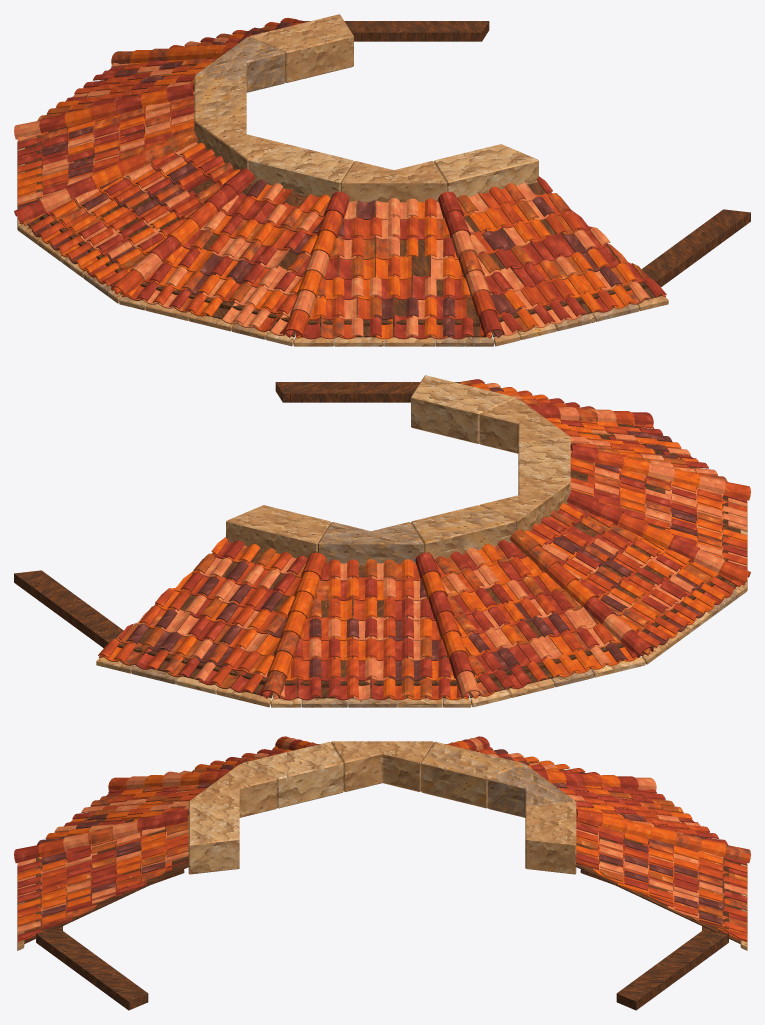
The model's file is kiln_crown_broken__clay_brick.glb.
The picture shows the model from 3 angles, top to bottom: view 1: azimuth 30°, elevation 25°; view 2: azimuth 150°, elevation 25°; view 3: azimuth 270°, elevation 25°; orthographic projection. The views are drawn at different scales.
Visible parts, largest first — view 1: model; view 2: model; view 3: model.
Part boxes in pixels (x1,y1,x2,y2): model: (14, 14, 750, 346); model: (14, 375, 750, 707); model: (14, 736, 750, 1010).
Bounding box in the file's own units: 6.97 × 1.08 × 8.26.
12 materials, 12 textured.
